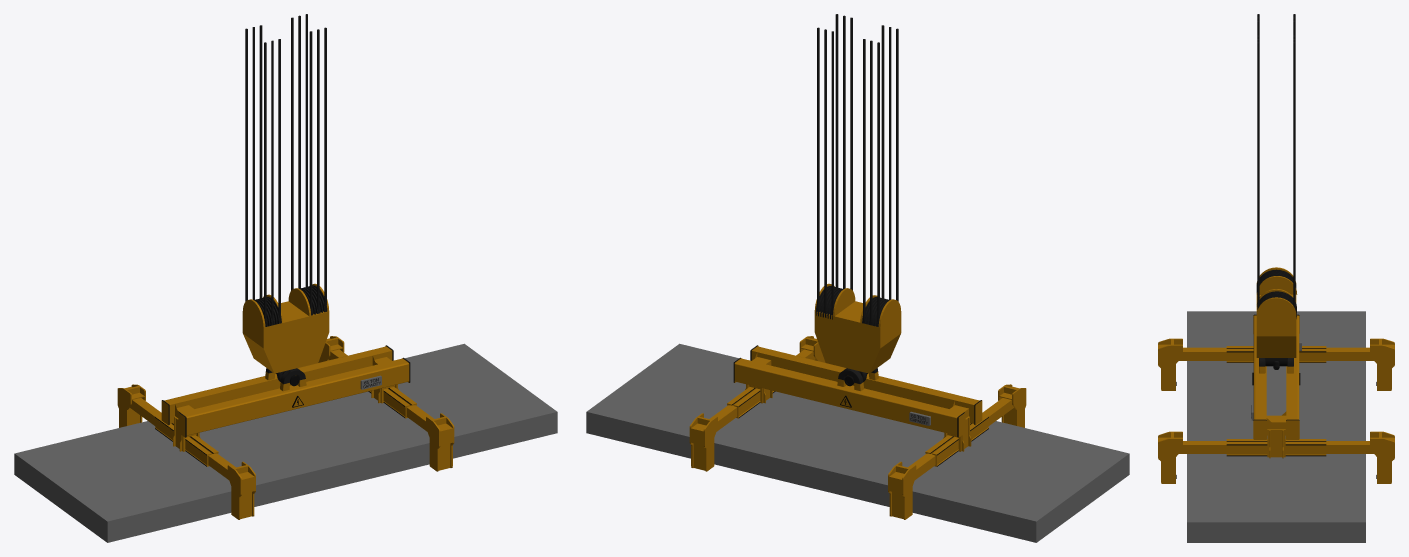
The model's file is IngotGrab.obj.
The picture shows the model from 3 angles, left to right: view 1: azimuth 30°, elevation 25°; view 2: azimuth 150°, elevation 25°; view 3: azimuth 270°, elevation 25°; orthographic projection. The views are drawn at different scales.
Parts seen in each view (by area): view 1: IngotPiece_IngotPiece.1, soporte_horizontal_Cube.001, wire3.003_Cylinder.1066, wire3.001_Cylinder.1067, pulleys_Cube.1187, arm.SA_Cube.2272, arm.SB_Cube.2275, arm.NB_Cube.2276, viga.izquierda_Cube.2266; view 2: IngotPiece_IngotPiece.1, soporte_horizontal_Cube.001, wire3.001_Cylinder.1067, wire3.003_Cylinder.1066, pulleys_Cube.1187, arm.NA_Cube.2277, arm.NB_Cube.2276, arm.SB_Cube.2275, viga.izquierda_Cube.2266; view 3: IngotPiece_IngotPiece.1, pulleys_Cube.1187, soporte_horizontal_Cube.001, arm.NB_Cube.2276, arm.SB_Cube.2275, wire3.003_Cylinder.1066, arm.NA_Cube.2277, arm.SA_Cube.2272, viga.derecha_Cube.2270, viga.izquierda_Cube.2266, brazo.derecho_Cube.2271.
Boxes of the visible parts, <box> form: IngotPiece_IngotPiece.1: <box>14,343,557,542</box>; soporte_horizontal_Cube.001: <box>161,345,410,437</box>; wire3.003_Cylinder.1066: <box>291,14,326,315</box>; wire3.001_Cylinder.1067: <box>245,25,280,326</box>; pulleys_Cube.1187: <box>242,283,329,373</box>; arm.SA_Cube.2272: <box>406,405,454,471</box>; arm.SB_Cube.2275: <box>208,453,255,519</box>; arm.NB_Cube.2276: <box>117,384,161,427</box>; viga.izquierda_Cube.2266: <box>155,415,218,466</box>; IngotPiece_IngotPiece.1: <box>586,343,1129,542</box>; soporte_horizontal_Cube.001: <box>733,345,982,437</box>; wire3.001_Cylinder.1067: <box>863,25,898,326</box>; wire3.003_Cylinder.1066: <box>817,14,852,314</box>; pulleys_Cube.1187: <box>814,283,901,373</box>; arm.NA_Cube.2277: <box>689,405,737,471</box>; arm.NB_Cube.2276: <box>888,453,935,519</box>; arm.SB_Cube.2275: <box>982,384,1026,427</box>; viga.izquierda_Cube.2266: <box>925,415,988,466</box>; IngotPiece_IngotPiece.1: <box>1187,311,1365,542</box>; pulleys_Cube.1187: <box>1256,267,1297,357</box>; soporte_horizontal_Cube.001: <box>1253,314,1299,439</box>; arm.NB_Cube.2276: <box>1326,338,1394,390</box>; arm.SB_Cube.2275: <box>1158,338,1226,390</box>; wire3.003_Cylinder.1066: <box>1257,35,1295,309</box>; arm.NA_Cube.2277: <box>1326,431,1394,483</box>; arm.SA_Cube.2272: <box>1158,431,1226,483</box>; viga.derecha_Cube.2270: <box>1226,439,1326,456</box>; viga.izquierda_Cube.2266: <box>1226,346,1326,362</box>; brazo.derecho_Cube.2271: <box>1267,429,1285,458</box>.
Size of the model in its own units: 3.12 by 2.82 by 1.48.
